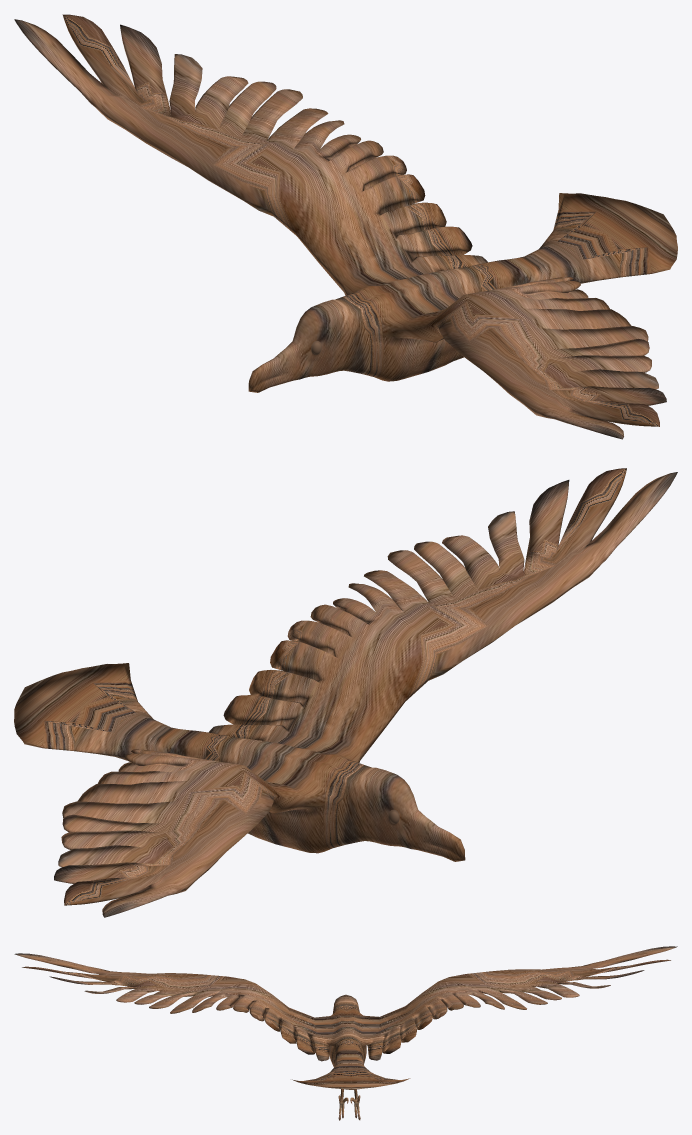
File: hawk.obj
3 renders of one model, top to bottom at view 1: azimuth 30°, elevation 25°; view 2: azimuth 150°, elevation 25°; view 3: azimuth 270°, elevation 25°, orthographic. The views are drawn at different scales.
Visible parts, largest first — view 1: GULL; view 2: GULL; view 3: GULL.
Boxes of the visible parts, bbox=[...] form: GULL: bbox=[14, 14, 677, 439]; GULL: bbox=[14, 468, 677, 917]; GULL: bbox=[14, 946, 677, 1120].
Bounding box in the file's own units: 56.57 × 24.91 × 136.
Materials: 1 (1 with a texture image).
